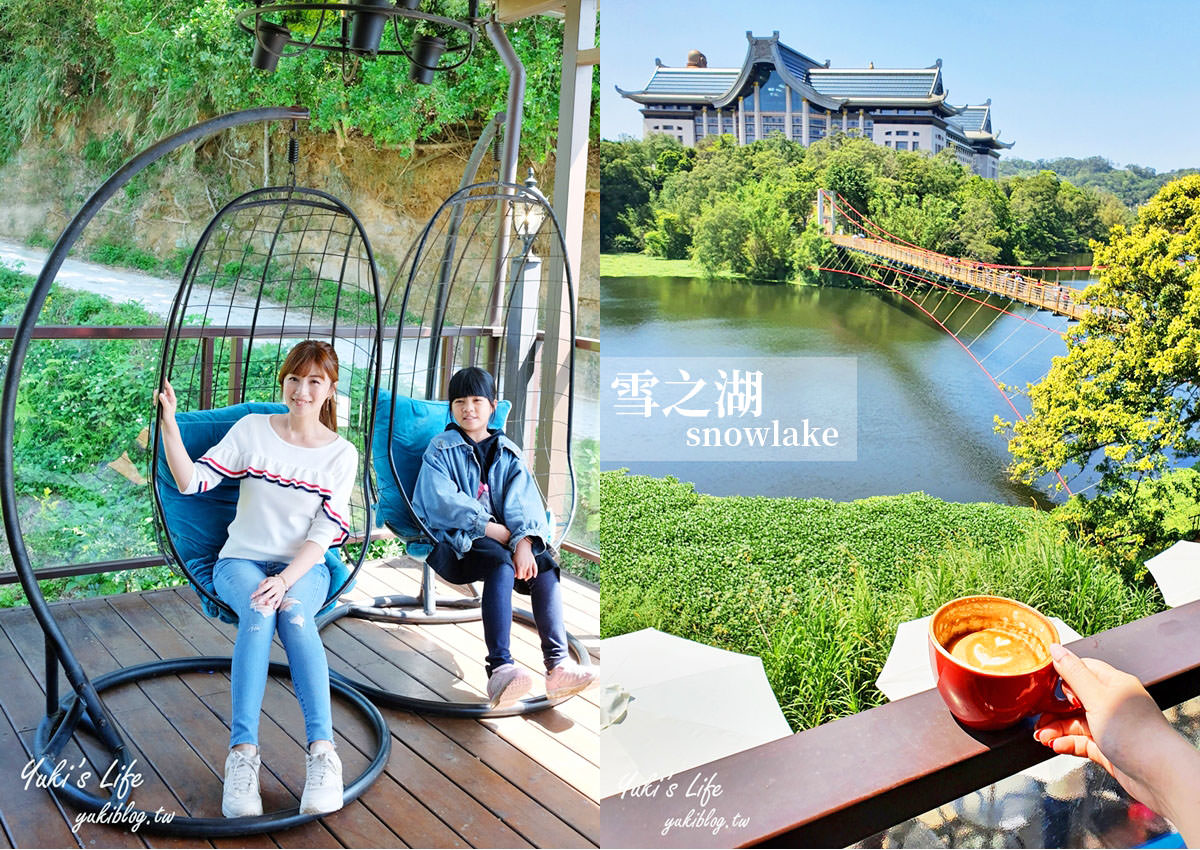people: (168, 342, 348, 825), (414, 361, 595, 711)
